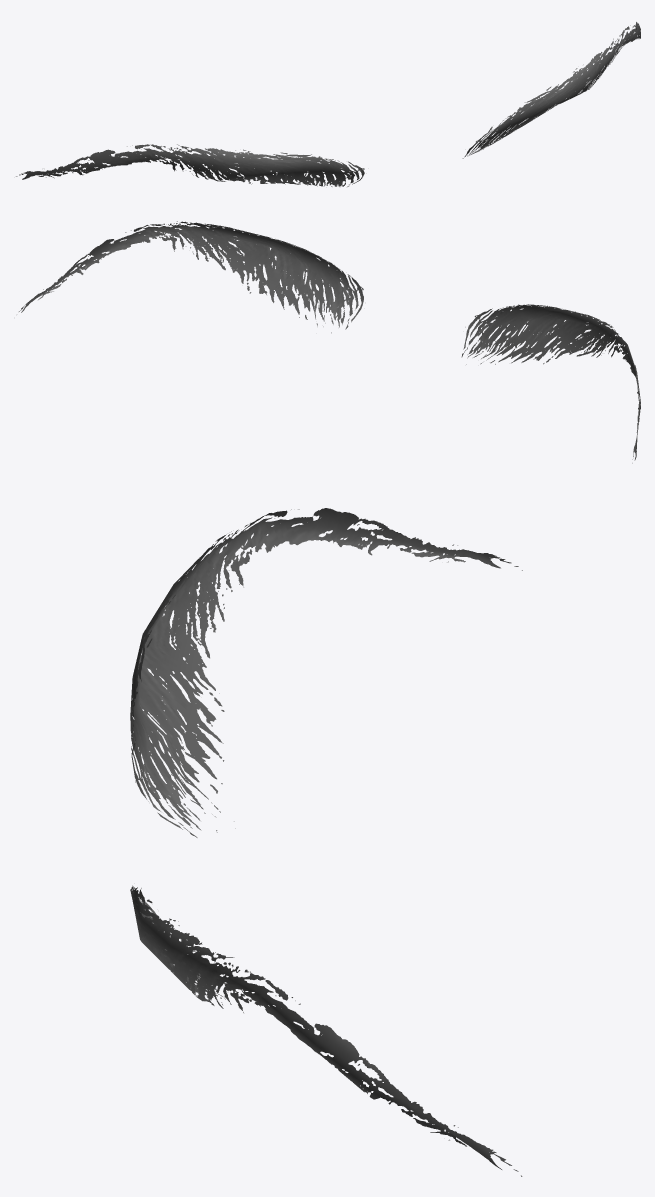
Rendered from brow008.glb.
3 views of the same model, one above another, from view 1: azimuth 30°, elevation 25°; view 2: azimuth 150°, elevation 25°; view 3: azimuth 270°, elevation 25° (orthographic). The views are drawn at different scales.
Parts seen in each view (by area): view 1: editor_brow008; view 2: editor_brow008; view 3: editor_brow008.
Boxes of the visible parts, x1,y1,x2,y2 form: editor_brow008: (16,22,640,186); editor_brow008: (19,221,640,463); editor_brow008: (130,508,522,1176).
Size of the model in its own units: 0.1077 by 0.0144 by 0.0298.
1 material, 1 textured.
